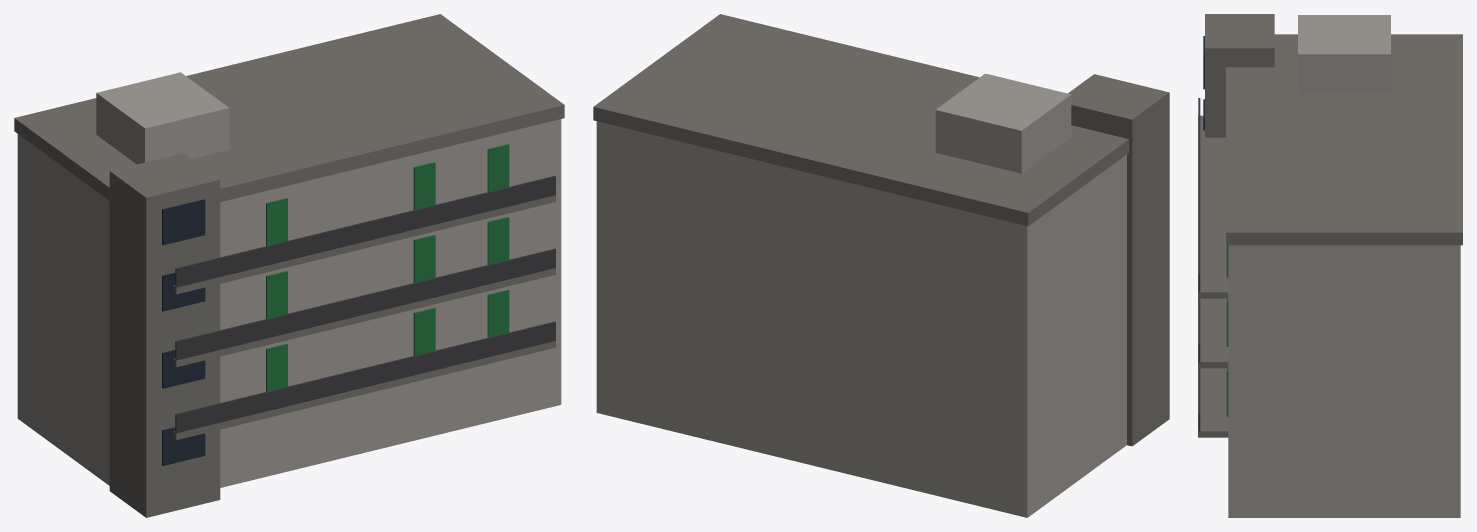
Rendered from building_london_s3_brutalist_flats.glb.
3 views of the same model, side by side, from view 1: azimuth 30°, elevation 25°; view 2: azimuth 150°, elevation 25°; view 3: azimuth 270°, elevation 25° (orthographic). The views are drawn at different scales.
Visible parts, largest first — view 1: building_london_s3_brutalist_flats; view 2: building_london_s3_brutalist_flats; view 3: building_london_s3_brutalist_flats.
Part boxes in pixels (x1,y1,x2,y2): building_london_s3_brutalist_flats: [14, 14, 564, 517]; building_london_s3_brutalist_flats: [593, 14, 1169, 517]; building_london_s3_brutalist_flats: [1198, 14, 1462, 517].
Size of the model in its own units: 20.35 by 15.5 by 11.4.
Materials: 1 (1 with a texture image).
